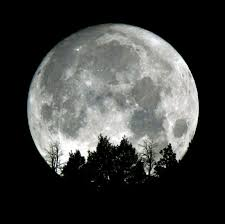moon: (26, 21, 200, 184)
